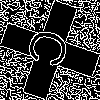C: (25, 25, 80, 75)
